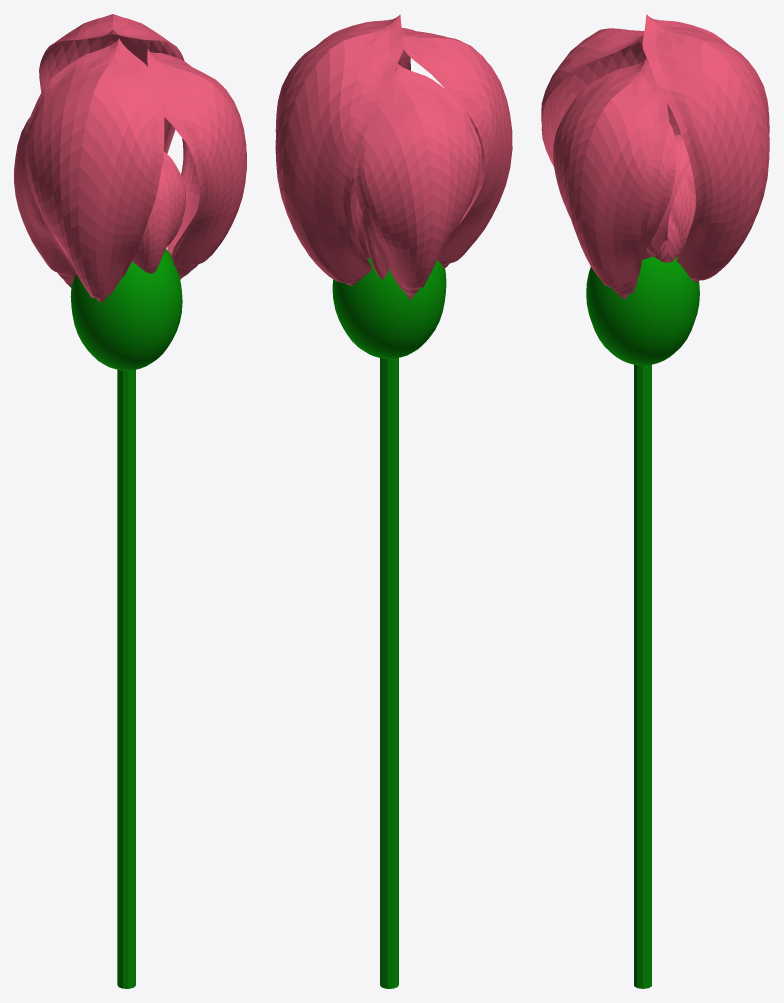
File: Lotus005.fbx
3 renders of one model, left to right at view 1: azimuth 30°, elevation 25°; view 2: azimuth 150°, elevation 25°; view 3: azimuth 270°, elevation 25°, orthographic.
Visible parts, largest first — view 1: nurbsToPoly11, pCylinder1, nurbsToPoly24, pSphere4, nurbsToPoly10, nurbsToPoly8, nurbsToPoly12, nurbsToPoly9; view 2: nurbsToPoly10, nurbsToPoly12, pCylinder1, nurbsToPoly11, pSphere4, nurbsToPoly17, nurbsToPoly23; view 3: nurbsToPoly10, nurbsToPoly24, pCylinder1, pSphere4, nurbsToPoly11, nurbsToPoly9, nurbsToPoly22, nurbsToPoly17, nurbsToPoly15.
Boxes of the visible parts, box(x1,y1,x2,y2) form: nurbsToPoly11: box(24, 38, 164, 302); pCylinder1: box(117, 369, 135, 988); nurbsToPoly24: box(147, 49, 246, 279); pSphere4: box(70, 249, 182, 370); nurbsToPoly10: box(39, 14, 184, 153); nurbsToPoly8: box(132, 152, 185, 273); nurbsToPoly12: box(14, 117, 76, 287); nurbsToPoly9: box(164, 104, 199, 261); nurbsToPoly10: box(275, 14, 403, 285); nurbsToPoly12: box(353, 63, 481, 300); pCylinder1: box(380, 358, 398, 988); nurbsToPoly11: box(402, 28, 512, 268); pSphere4: box(332, 258, 446, 358); nurbsToPoly17: box(349, 176, 369, 257); nurbsToPoly23: box(362, 214, 388, 279); nurbsToPoly10: box(642, 14, 769, 282); nurbsToPoly24: box(553, 59, 668, 299); pCylinder1: box(634, 364, 651, 988); pSphere4: box(586, 256, 699, 365); nurbsToPoly11: box(541, 28, 648, 167); nurbsToPoly9: box(643, 122, 675, 253); nurbsToPoly22: box(646, 134, 690, 255); nurbsToPoly17: box(670, 173, 696, 255); nurbsToPoly15: box(646, 213, 681, 262).
Size of the model in its own units: 12.55 by 56.12 by 12.05.
